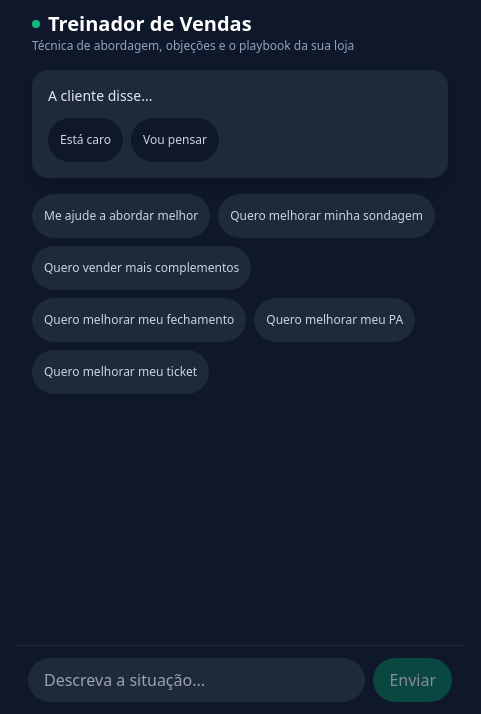
Scenario: Treinador › mostra mensagem amigável por tipo de erro e remove a mensagem otimista que falhou
The image size is (481, 714).
Type "Minha pergunta" into the field with placeholder "Descreva a situação..." at (197, 680), box [28,658,365,702]
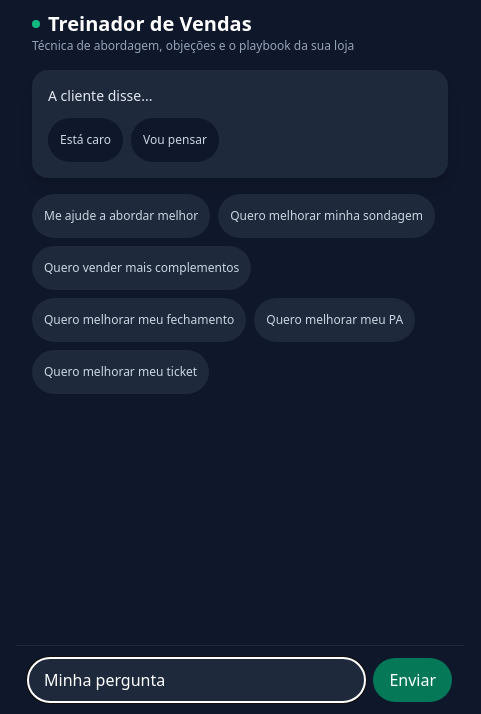
Click the button "Enviar" at (413, 680), box [373,658,452,702]
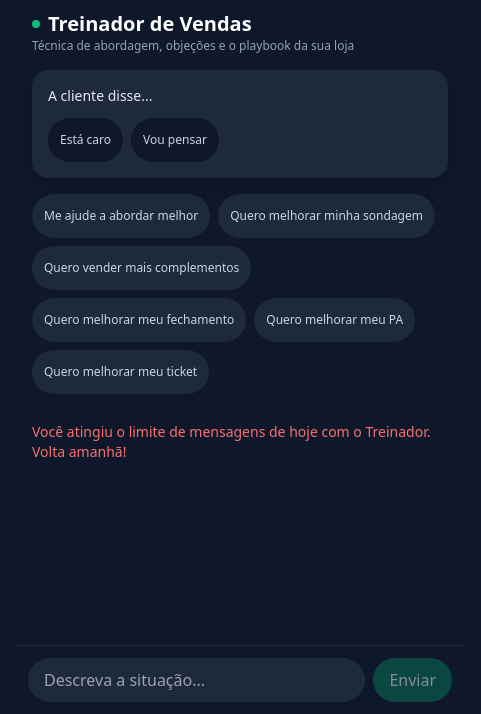
Expected: the text "Minha pergunta" is not shown
Result: the message reads "Você atingiu o limite de mensagens de hoje com o Treinador. Volta amanhã!" at [32,422,430,461]
